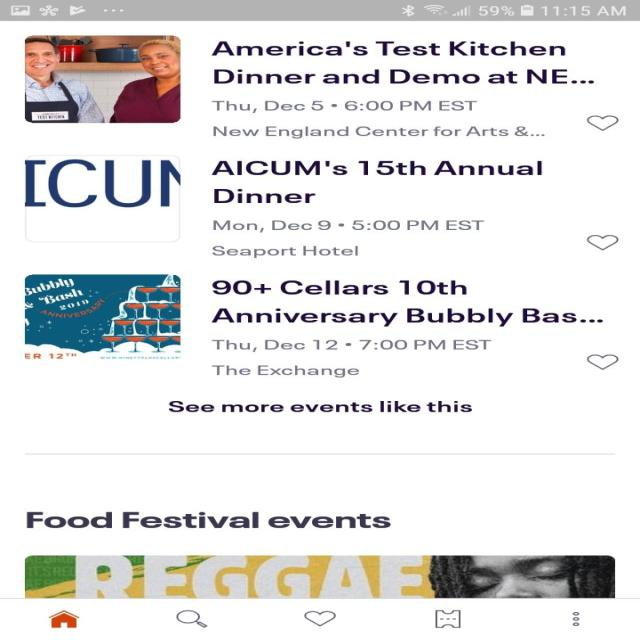Icon: (48, 610, 80, 628), (176, 609, 207, 627), (303, 610, 336, 626), (586, 115, 618, 131), (434, 609, 460, 628), (586, 235, 618, 250), (586, 354, 618, 369), (570, 611, 580, 626)
Image: (25, 555, 615, 597), (24, 155, 180, 242), (24, 35, 180, 122), (23, 274, 180, 359)
Text: (210, 280, 602, 326), (210, 41, 593, 84), (210, 160, 542, 203), (210, 101, 544, 138), (210, 338, 490, 378), (212, 219, 484, 258), (26, 511, 392, 528), (168, 400, 471, 412)
